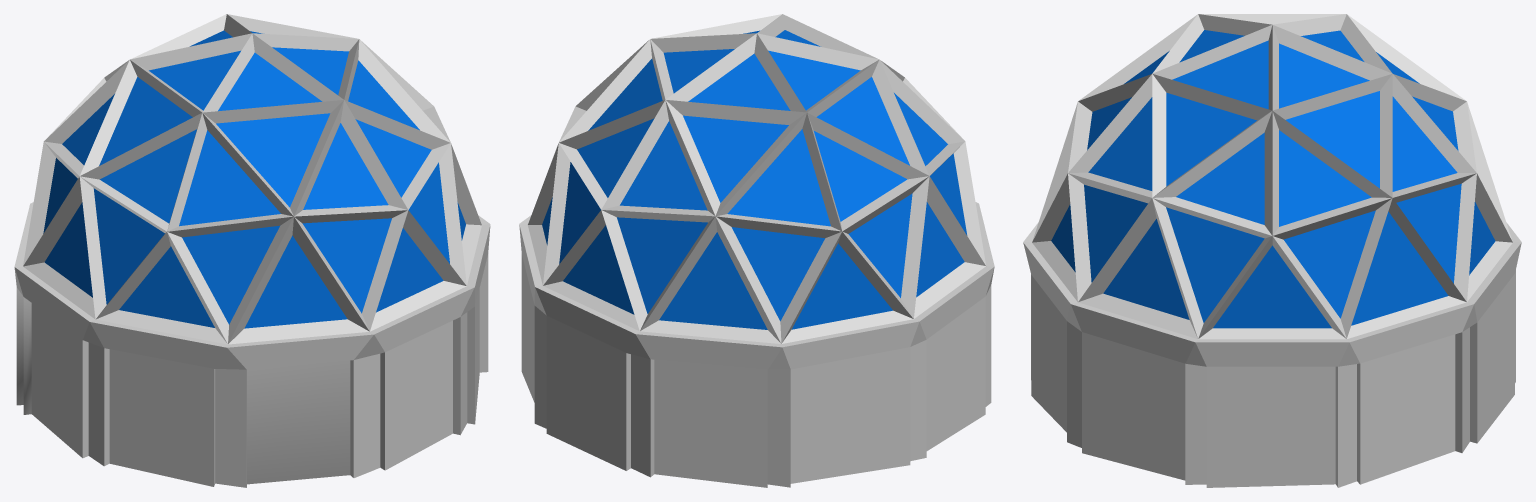
3 renders of one model, left to right at view 1: azimuth 30°, elevation 25°; view 2: azimuth 150°, elevation 25°; view 3: azimuth 270°, elevation 25°, orthographic. The views are drawn at different scales.
Visible parts, largest first — view 1: Dome; view 2: Dome; view 3: Dome.
Boxes of the visible parts, x1,y1,x2,y2 form: Dome: (14,14,490,487); Dome: (519,14,994,487); Dome: (1023,14,1521,487).
Bounding box in the file's own units: 1109 × 938 × 1166.
